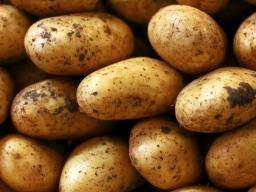potato: (27, 14, 142, 63), (78, 57, 177, 109), (12, 85, 97, 140), (185, 67, 256, 131), (150, 0, 221, 55), (129, 123, 197, 178)
